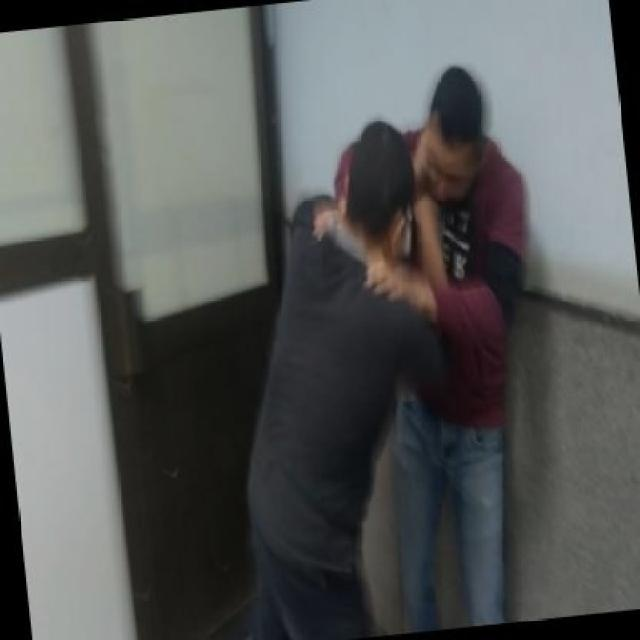fight: (165, 24, 617, 638)
